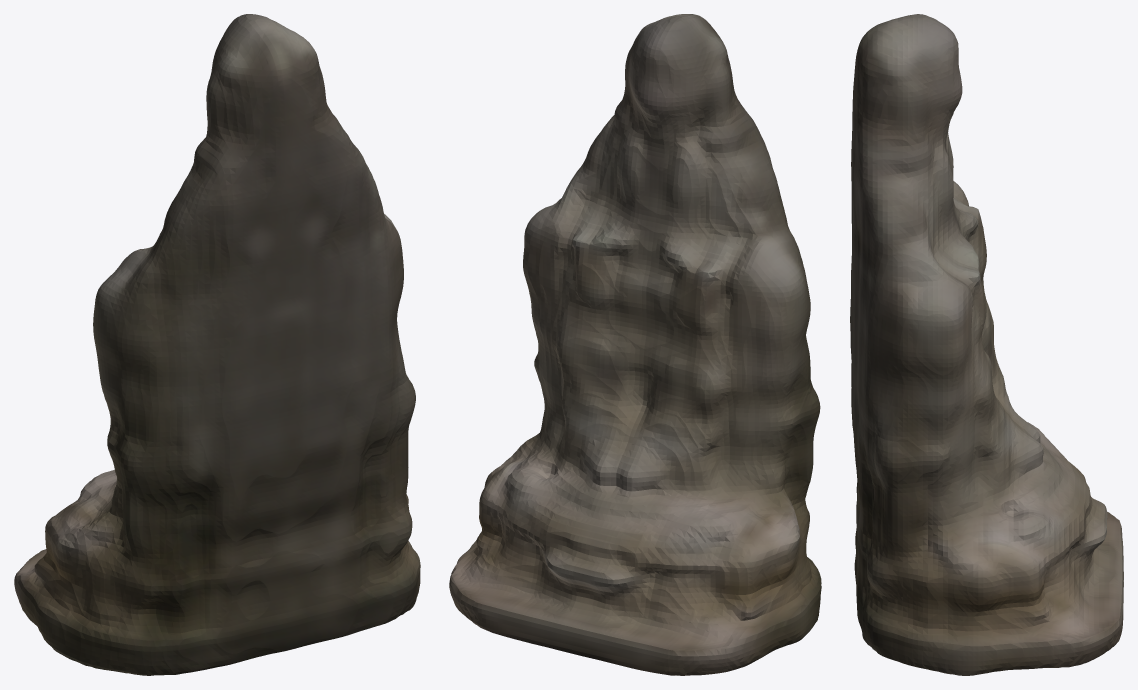
Rendered from asset2.glb.
3 renders of one model, left to right at view 1: azimuth 30°, elevation 25°; view 2: azimuth 150°, elevation 25°; view 3: azimuth 270°, elevation 25°, orthographic. The views are drawn at different scales.
Parts seen in each view (by area): view 1: tmpuqy7t453.ply; view 2: tmpuqy7t453.ply; view 3: tmpuqy7t453.ply.
Part boxes in pixels (<box>): tmpuqy7t453.ply: <box>14,14,420,675</box>; tmpuqy7t453.ply: <box>449,14,821,675</box>; tmpuqy7t453.ply: <box>850,14,1123,675</box>.
Size of the model in its own units: 1.19 by 1.98 by 0.8432.
